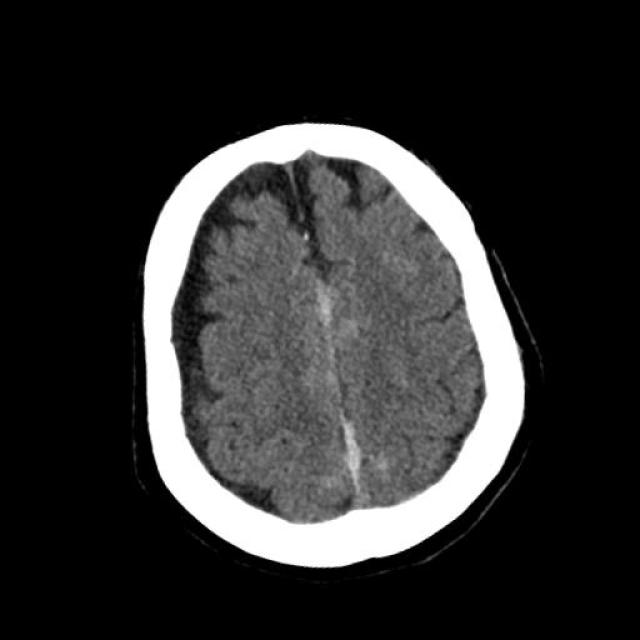Subdural: (320, 394, 380, 522)
